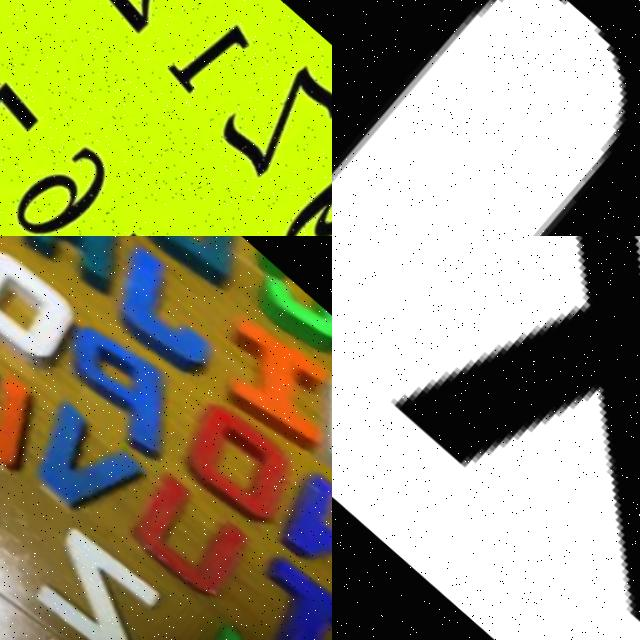1: (138, 0, 279, 122)
2: (75, 0, 233, 67)
5: (14, 191, 195, 236)
6: (0, 101, 154, 236)
7: (0, 36, 79, 220)
D: (119, 236, 260, 298)
H: (285, 362, 332, 521)
I: (194, 304, 332, 458)
J: (88, 240, 248, 391)
K: (0, 236, 145, 295)
N: (332, 0, 640, 236), (255, 465, 332, 614)
O: (159, 392, 318, 540)
P: (43, 318, 211, 475)
Q: (0, 236, 92, 385)
T: (220, 547, 332, 640)
U: (97, 457, 259, 610)
V: (4, 394, 145, 526)
W: (0, 313, 55, 474)
X: (332, 236, 640, 640)
Y: (141, 610, 297, 640)
Z: (3, 514, 181, 640)
